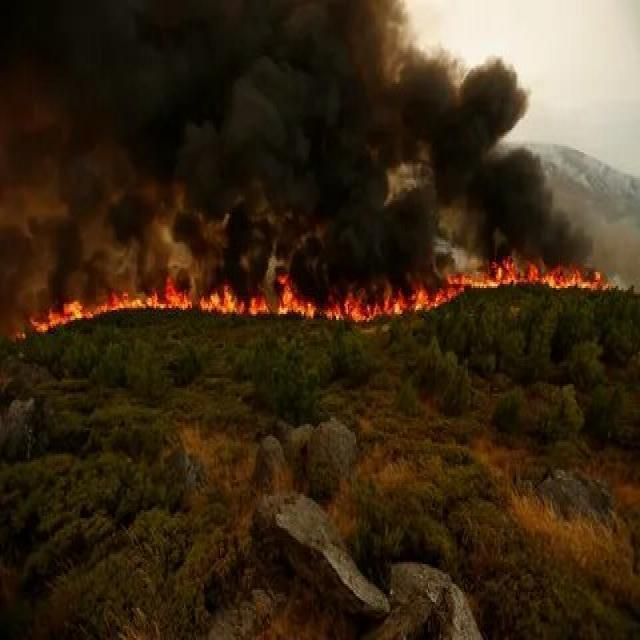Fire: (26, 271, 640, 352)
Smoke: (0, 0, 640, 275)
